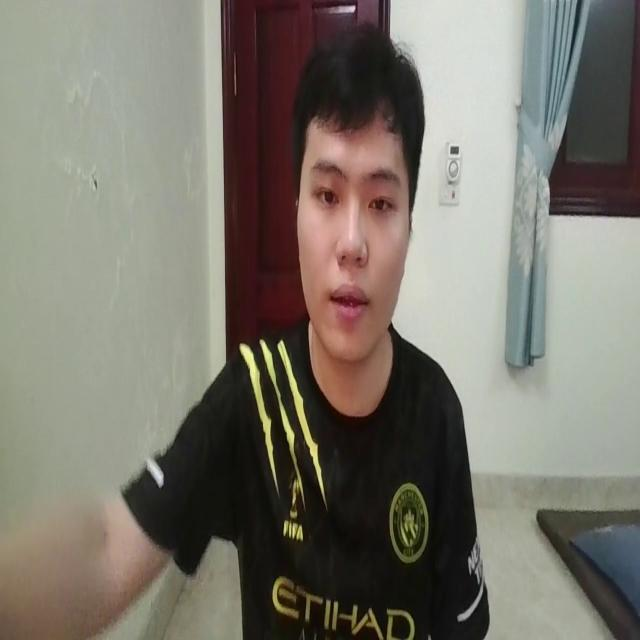student: (14, 24, 486, 640)
